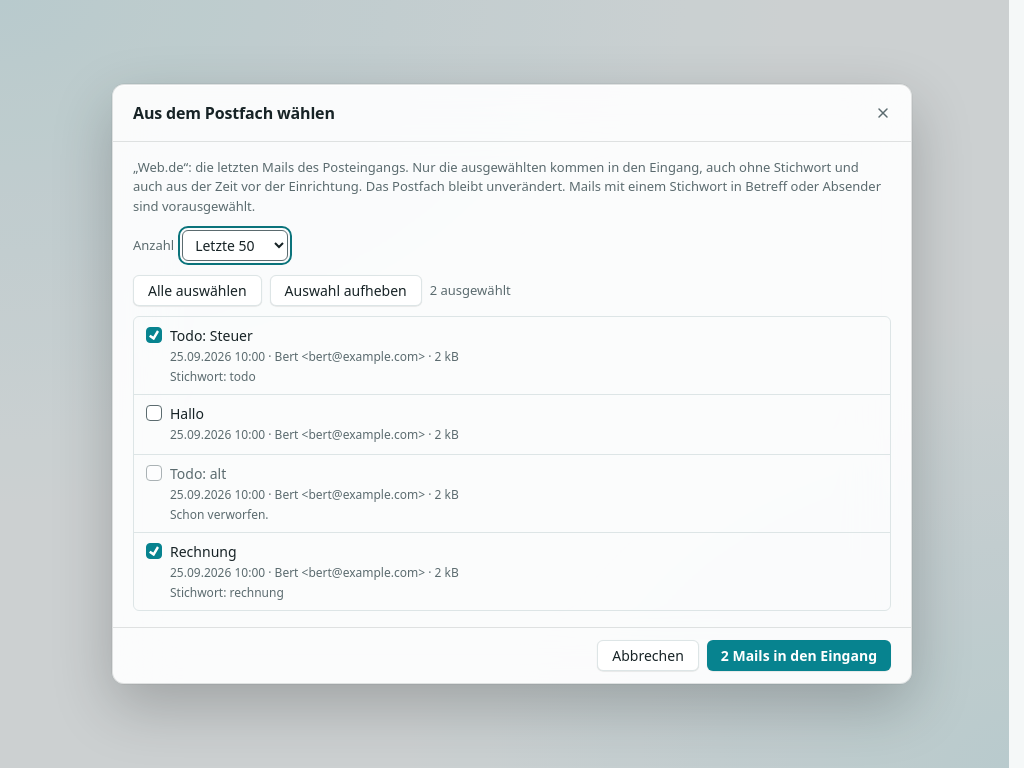
it: MailboxPicker › shows an error of the import and keeps the choice
Check: the text "Todo: Steuer" is shown, box 170,326 -> 253,345
Click the button "2 Mails in den Eingang": [799, 656] box 707,640 -> 891,671
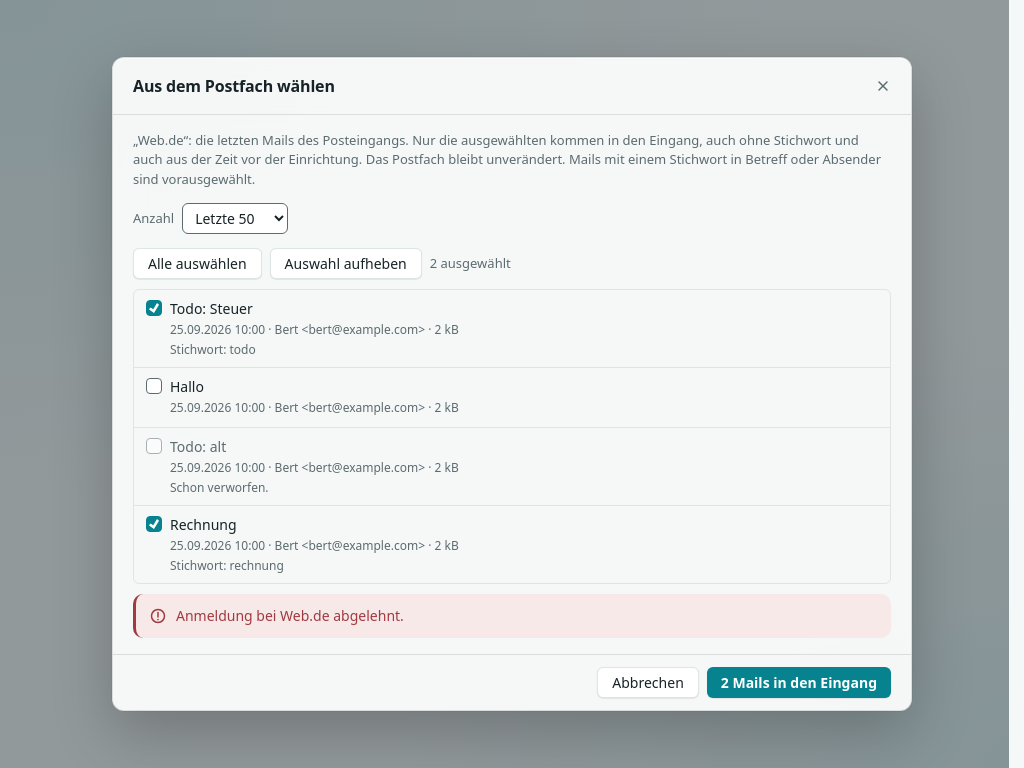
Check: the 1st checkbox is checked, box 146,300 -> 162,316
Check: the message shows "Anmeldung bei Web.de abgelehnt", box 176,606 -> 404,625
